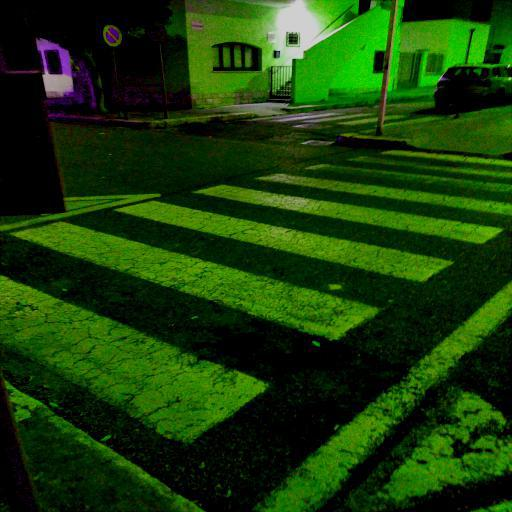crosswalk: (108, 177, 510, 291)
